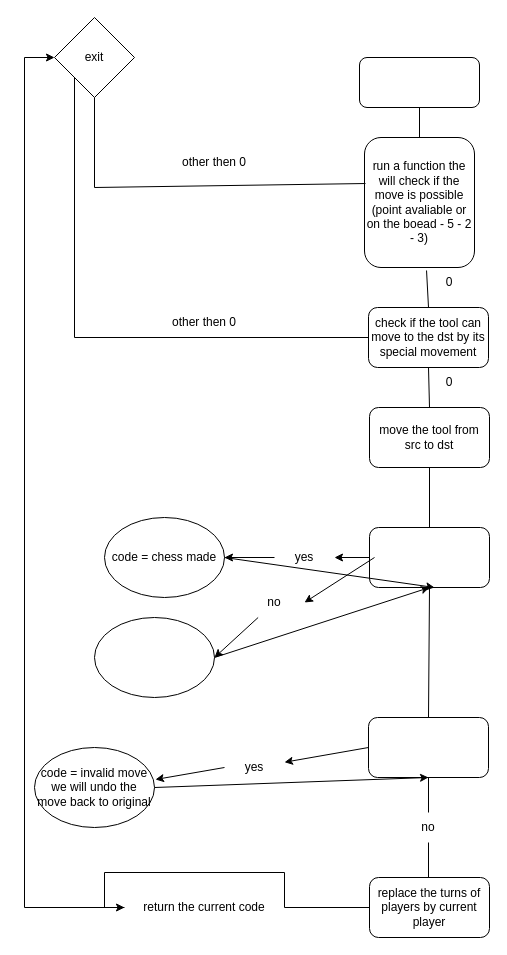
The diagram is 507 pixels wide and 955 high, and some of its shapes have lost their labels. Each missing label, with the centre of its shape:
break the src and dest to class of point: point 419,82
check if the move made a chess on opponent: point 429,557
checking if a chess was made on my own king by the move: point 428,747
code = valid: point 154,657
